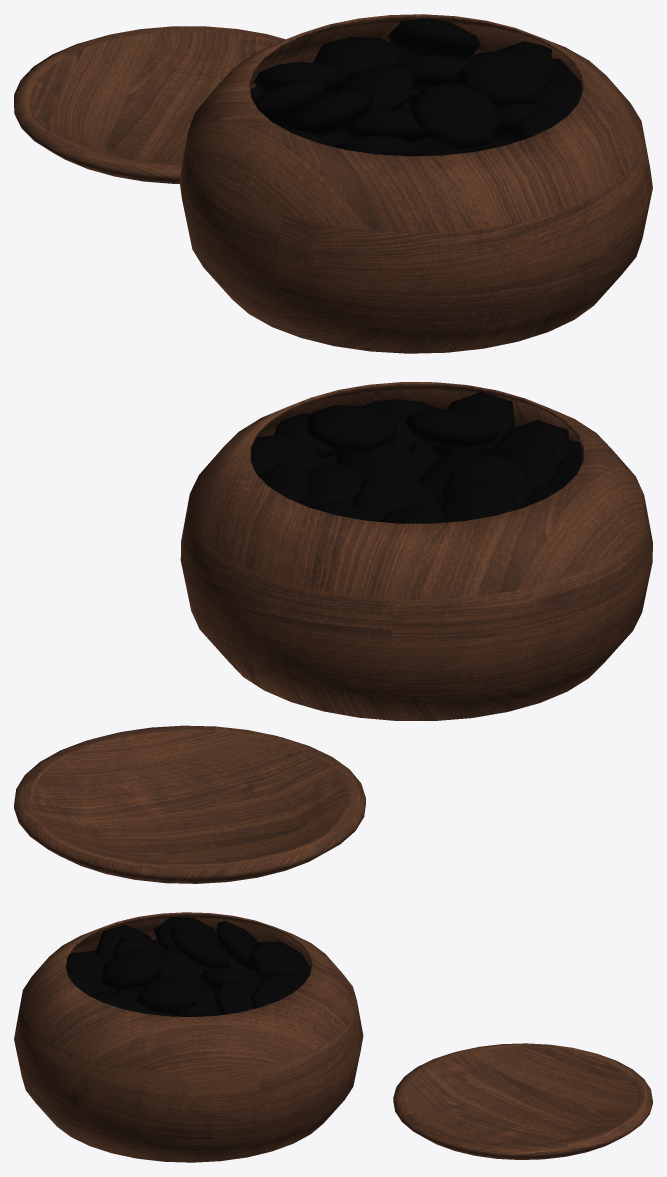
File: bowl_blk_stones.gltf
3 views of the same model, one above another, from view 1: azimuth 30°, elevation 25°; view 2: azimuth 150°, elevation 25°; view 3: azimuth 270°, elevation 25° (orthographic). The views are drawn at different scales.
Parts seen in each view (by area): view 1: Cylinder.008; view 2: Cylinder.008; view 3: Cylinder.008.
Boxes of the visible parts, x1,y1,x2,y2 form: Cylinder.008: [14, 14, 652, 353]; Cylinder.008: [14, 382, 652, 883]; Cylinder.008: [14, 912, 652, 1162].
Bounding box in the file's own units: 0.1503 × 0.0813 × 0.2748.
2 materials, 1 textured.
